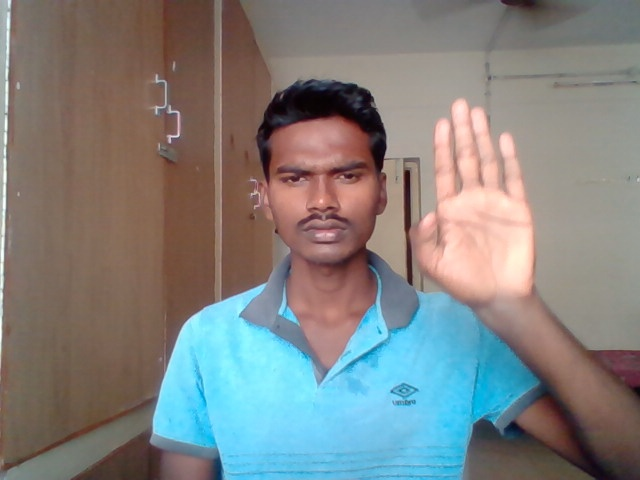Hello: (410, 98, 538, 300)
